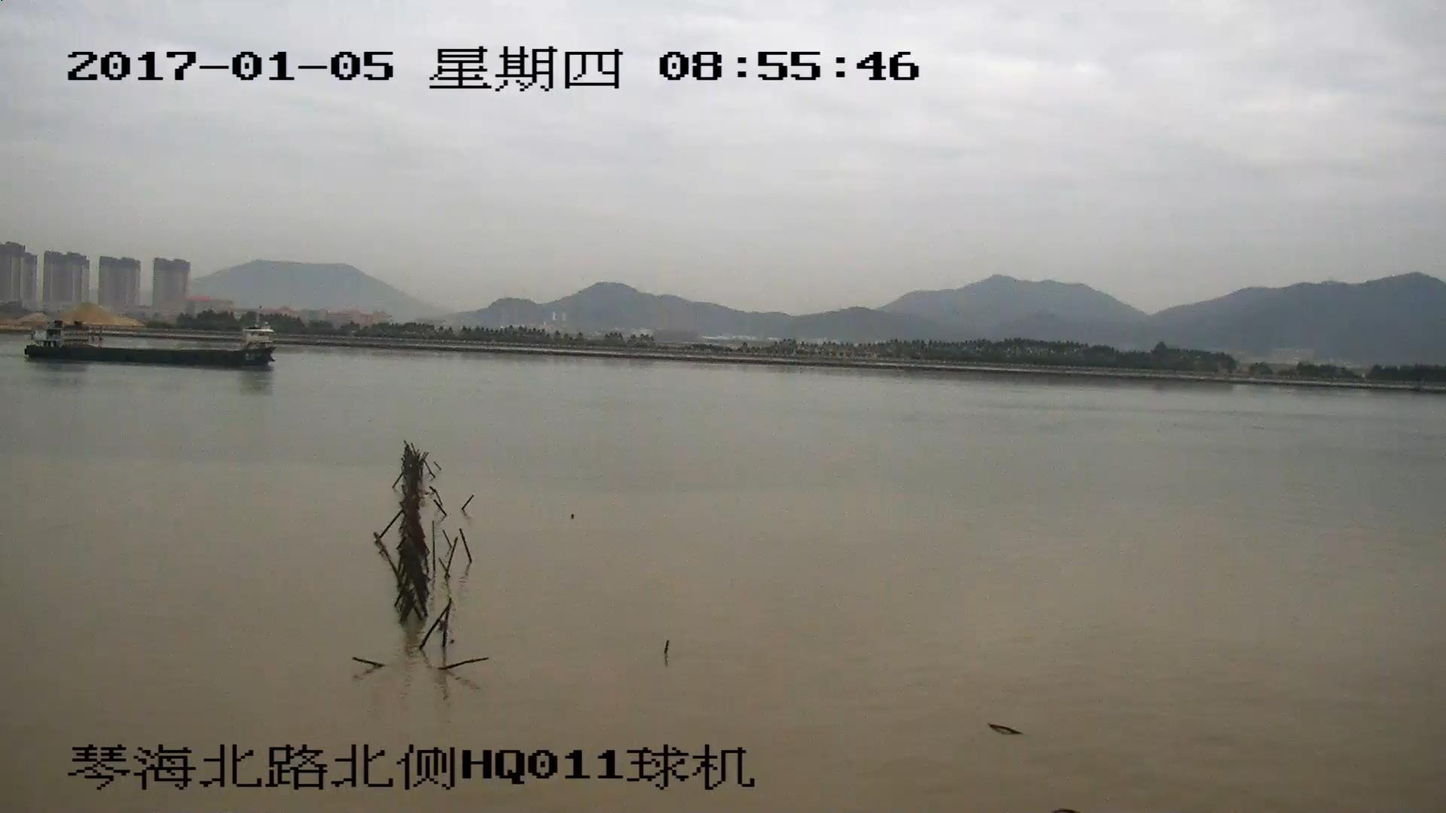general cargo ship: (26, 318, 271, 365)
